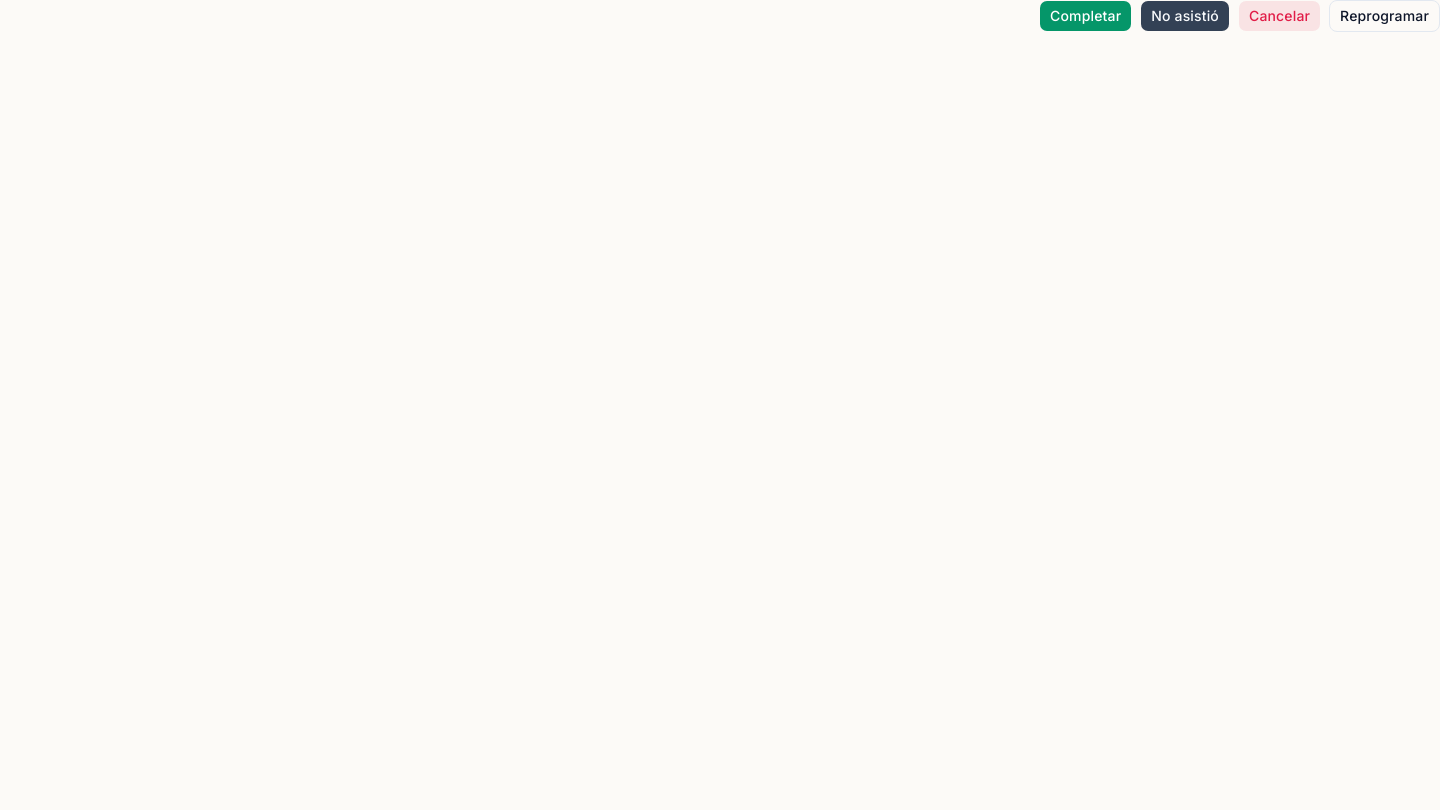
Scenario: BookingDetailActions — reschedule dialog › shows the empty-state copy when the search returns no slots
The width and height of the screenshot is (1440, 810).
Step 1. Click the button "Reprogramar" → (1385, 16), box [1329,0,1439,32]
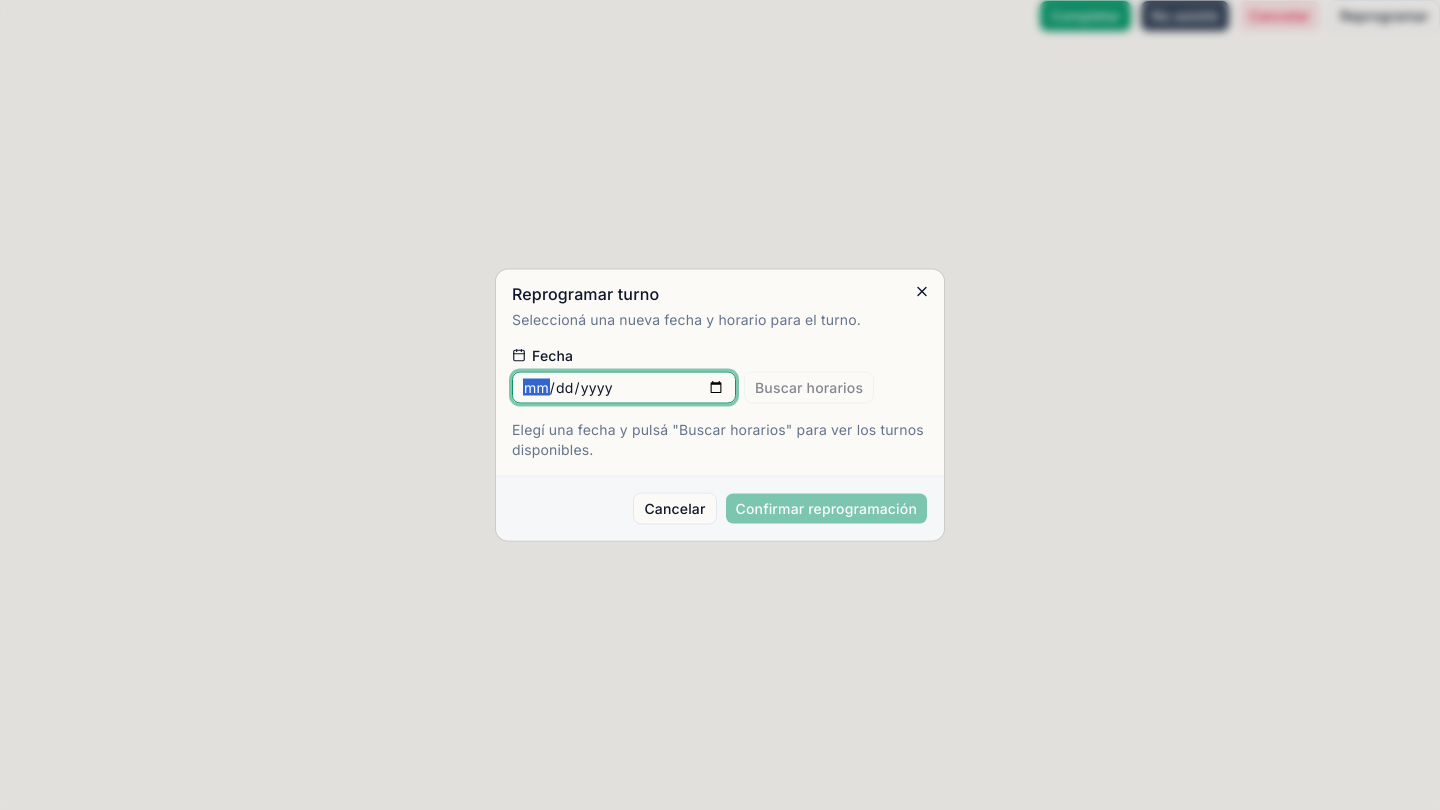
Step 2. Type "2026-06-20" into the date field labelled "Fecha" → (624, 388), box [512,372,736,404]
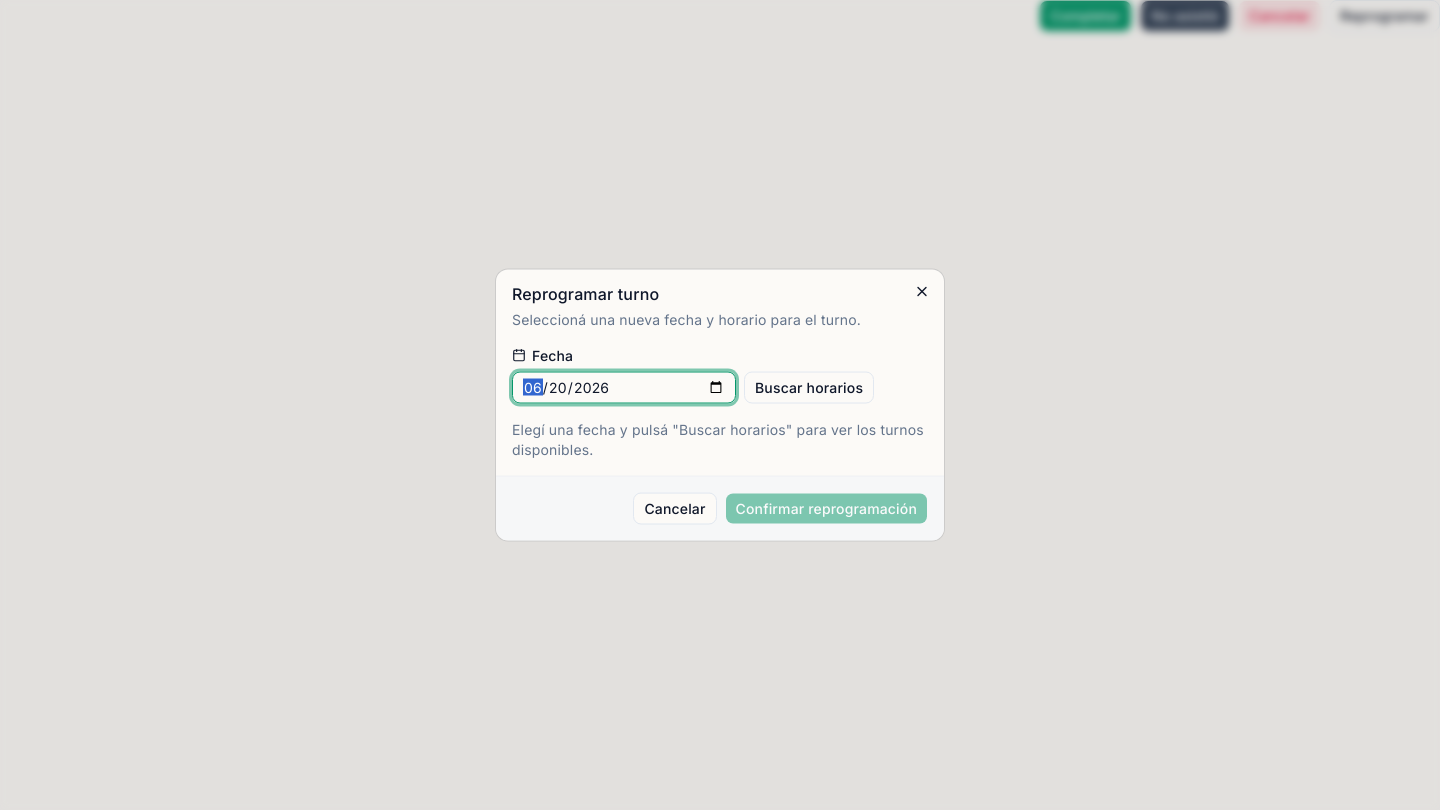
Step 3. Click the button with test id "reschedule-search-button" → (809, 388), box [744,372,874,404]
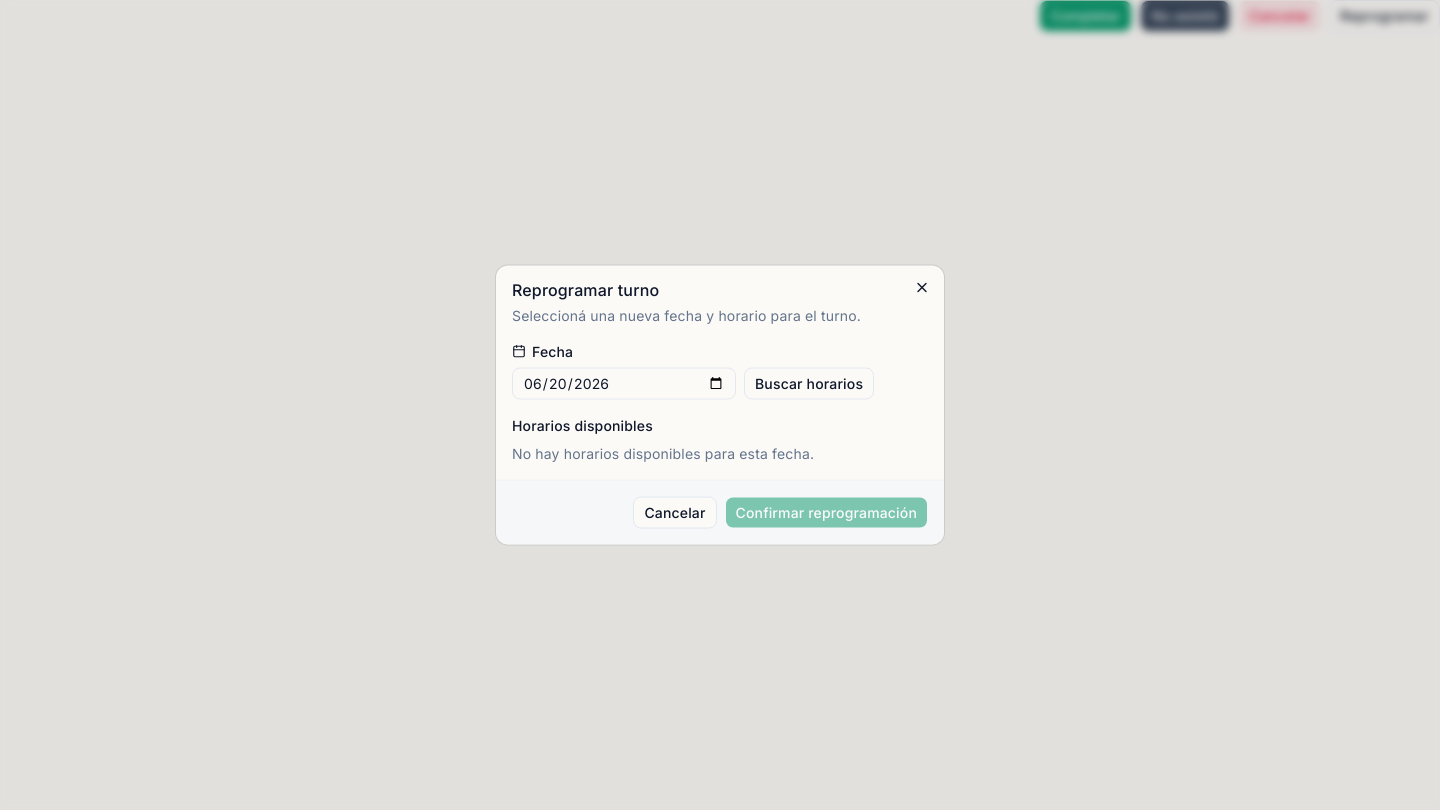
Now the button with test id "reschedule-confirm-button" is disabled, box [724,496,928,528]
Now the text "No hay horarios disponibles para esta fecha." is shown, box [512,444,814,462]
